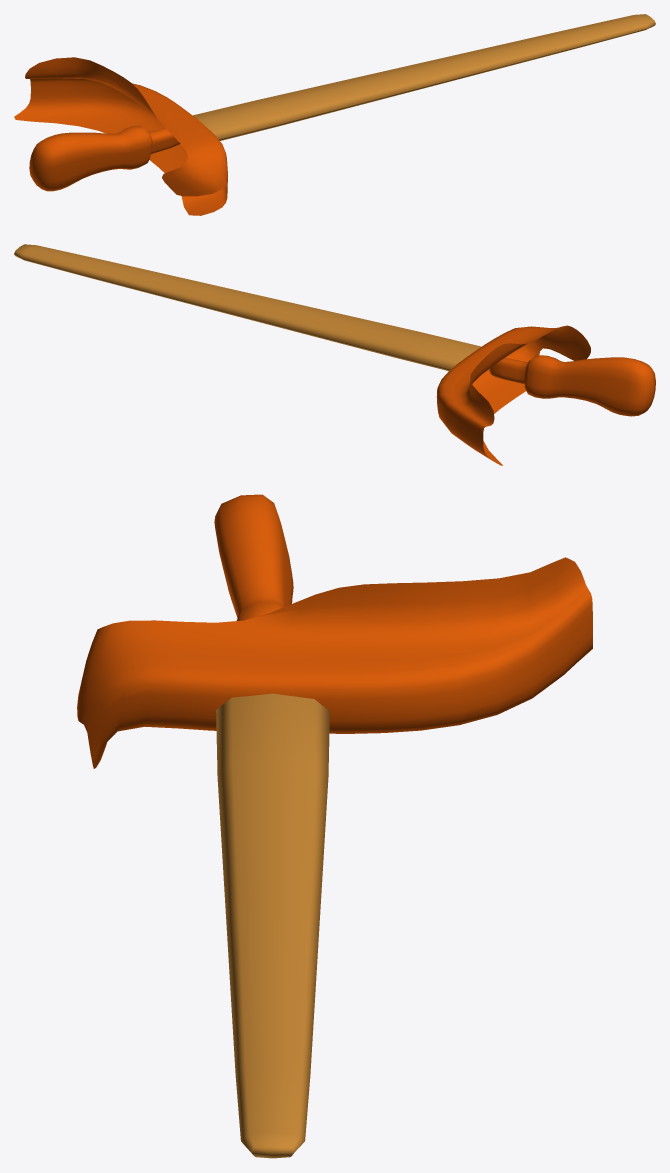
Rendered from kris.fbx.
3 views of the same model, one above another, from view 1: azimuth 30°, elevation 25°; view 2: azimuth 150°, elevation 25°; view 3: azimuth 270°, elevation 25° (orthographic). The views are drawn at different scales.
Parts seen in each view (by area): view 1: Plane, Cube, Circle; view 2: Cube, Plane, Circle; view 3: Plane, Cube, Circle.
Boxes of the visible parts, <box> form: Plane: <box>14,57,227,215</box>; Cube: <box>193,14,655,140</box>; Circle: <box>29,125,180,191</box>; Cube: <box>14,244,488,370</box>; Plane: <box>436,325,590,465</box>; Circle: <box>489,355,655,416</box>; Plane: <box>77,557,592,768</box>; Cube: <box>216,693,329,1158</box>; Circle: <box>214,494,293,620</box>.
Size of the model in its own units: 1670 by 221 by 598.
